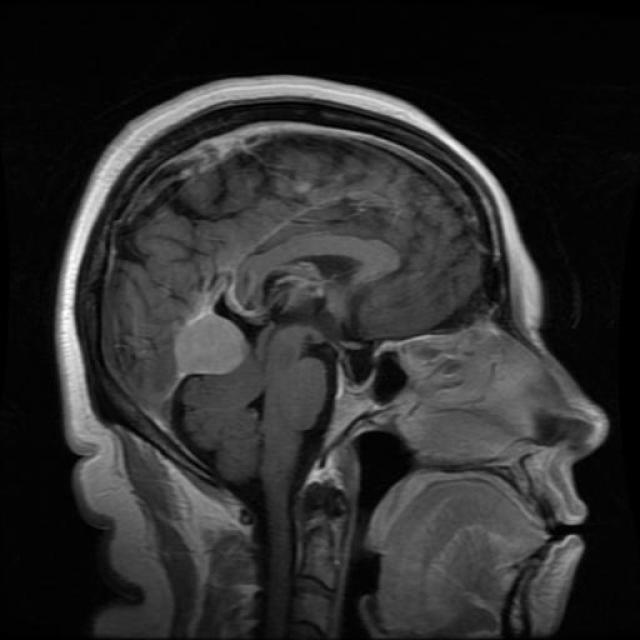meningioma: (176, 306, 251, 375)
